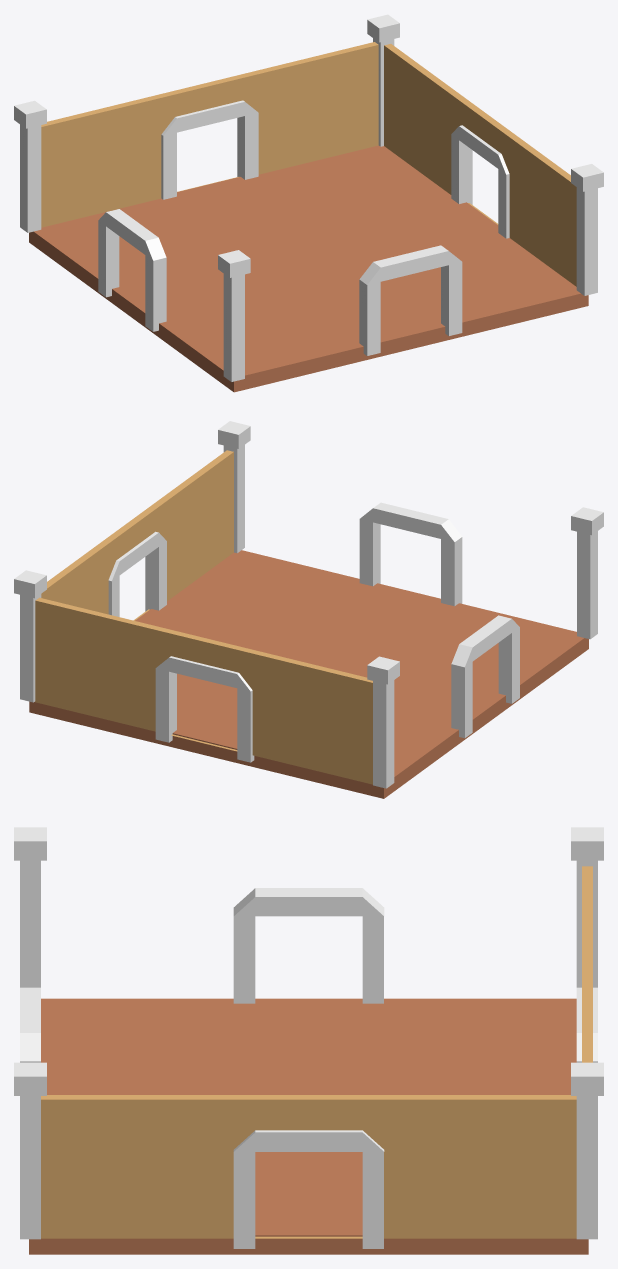
Rendered from MainHub.glb.
3 views of the same model, one above another, from view 1: azimuth 30°, elevation 25°; view 2: azimuth 150°, elevation 25°; view 3: azimuth 270°, elevation 25° (orthographic). The views are drawn at different scales.
Visible parts, largest first — view 1: Cube; view 2: Cube; view 3: Cube.
Part boxes in pixels (<box>): Cube: <box>14,14,603,392</box>; Cube: <box>14,421,603,798</box>; Cube: <box>14,827,603,1254</box>.
Size of the model in its own units: 55.07 by 19 by 55.07.
